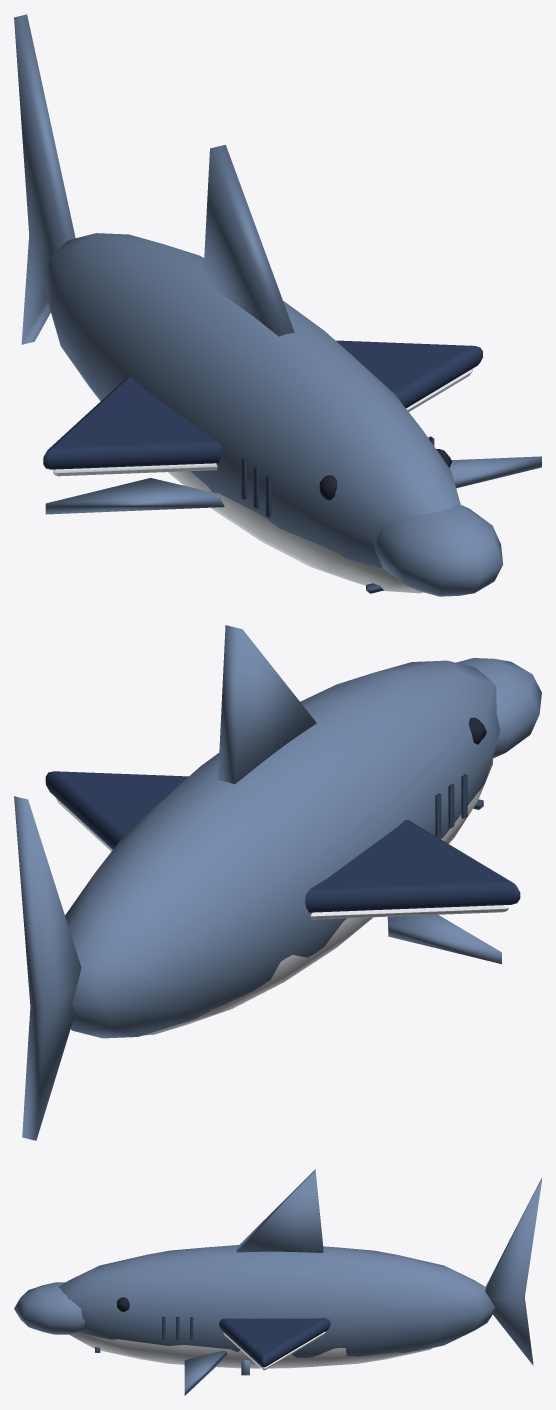
Rendered from aqua_fish.glb.
3 renders of one model, top to bottom at view 1: azimuth 30°, elevation 25°; view 2: azimuth 150°, elevation 25°; view 3: azimuth 270°, elevation 25°, orthographic. The views are drawn at different scales.
Visible parts, largest first — view 1: Shark, Ray; view 2: Shark, Ray; view 3: Shark, Ray.
Boxes of the visible parts, bbox=[...] form: Shark: bbox=[14, 14, 541, 596]; Ray: bbox=[43, 340, 482, 476]; Shark: bbox=[14, 625, 541, 1140]; Ray: bbox=[45, 771, 520, 919]; Shark: bbox=[14, 1169, 541, 1395]; Ray: bbox=[219, 1318, 330, 1370].
Size of the model in its own units: 1.67 by 1.22 by 3.03.
